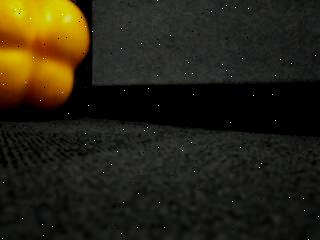Capsicum: (0, 0, 91, 117)
